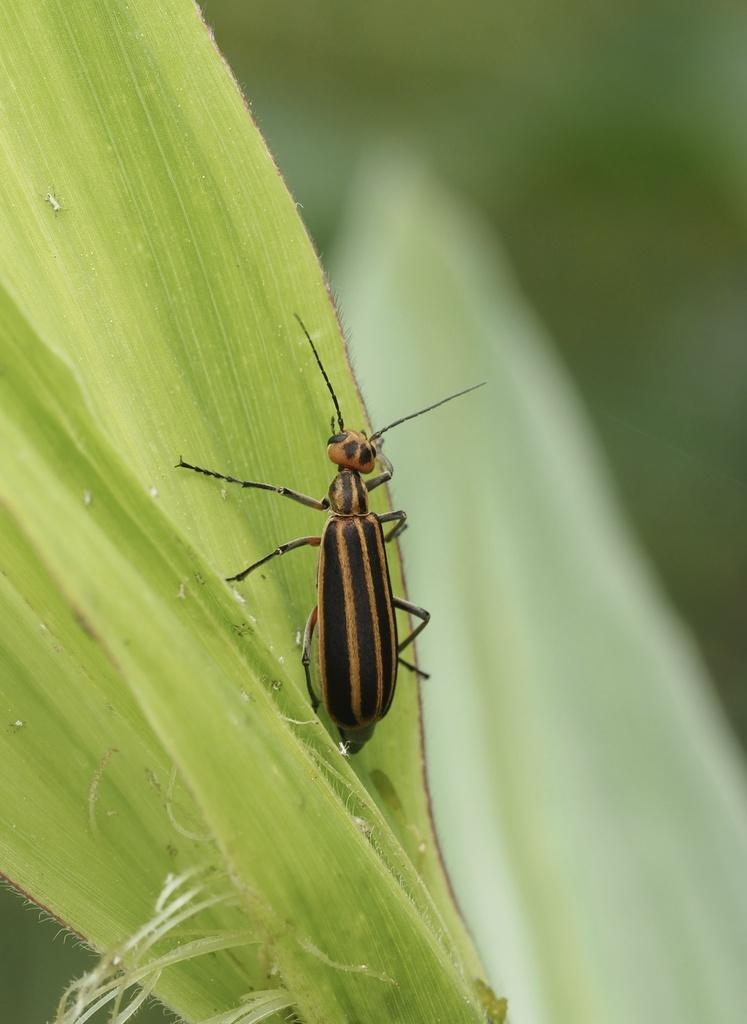blister_beetle: (144, 261, 555, 797)
